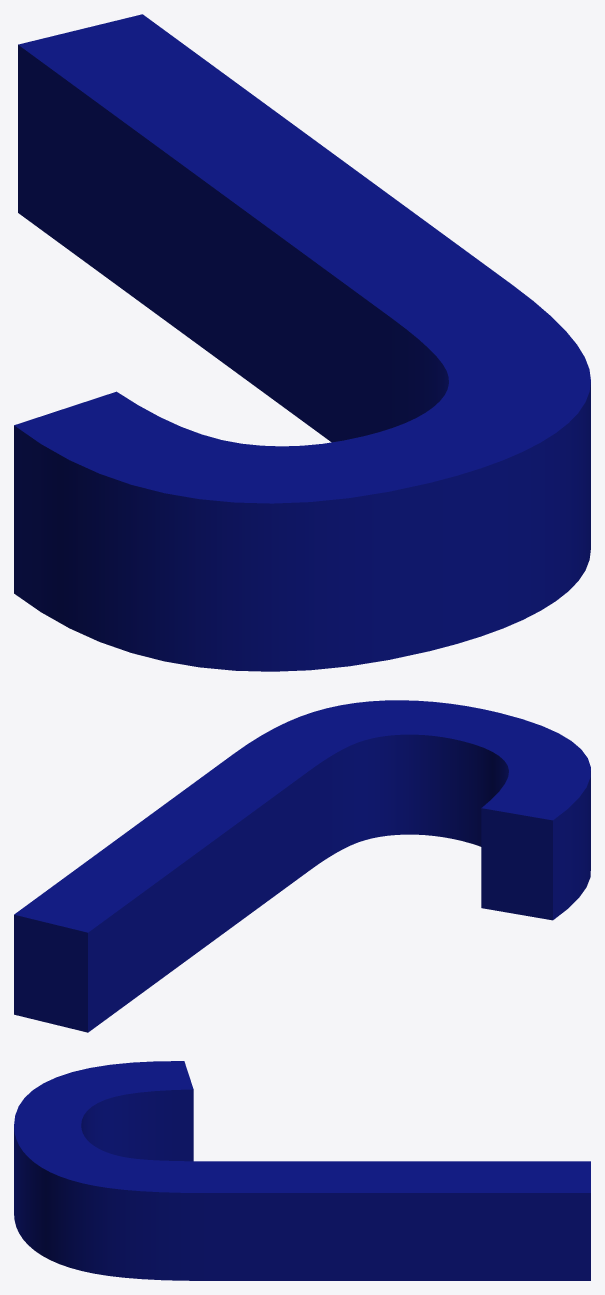
3 renders of one model, top to bottom at view 1: azimuth 30°, elevation 25°; view 2: azimuth 150°, elevation 25°; view 3: azimuth 270°, elevation 25°, orthographic. The views are drawn at different scales.
Parts seen in each view (by area): view 1: TextPlus010; view 2: TextPlus010; view 3: TextPlus010.
Boxes of the visible parts, x1=… form: TextPlus010: x1=14, y1=14, x2=590, y2=671; TextPlus010: x1=14, y1=700, x2=590, y2=1032; TextPlus010: x1=14, y1=1061, x2=590, y2=1280.
Bounding box in the file's own units: 14.12 × 4.38 × 26.08.
